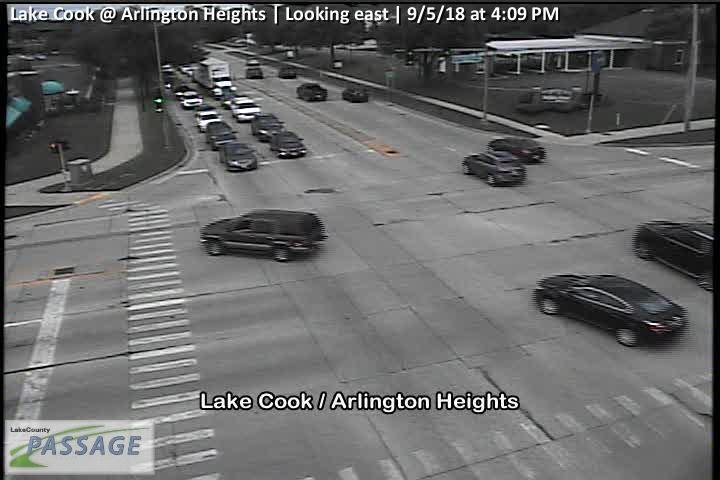SUV: (201, 209, 328, 261), (634, 221, 720, 291), (465, 151, 527, 186), (488, 137, 546, 165), (251, 112, 285, 141), (206, 122, 238, 151), (232, 99, 261, 121), (183, 91, 203, 107), (247, 67, 263, 78)
Sedan: (535, 275, 686, 347), (220, 141, 257, 172), (272, 131, 306, 159), (195, 111, 222, 132), (343, 88, 368, 103), (279, 67, 296, 78)
Truck: (200, 58, 232, 89), (297, 84, 327, 100)
